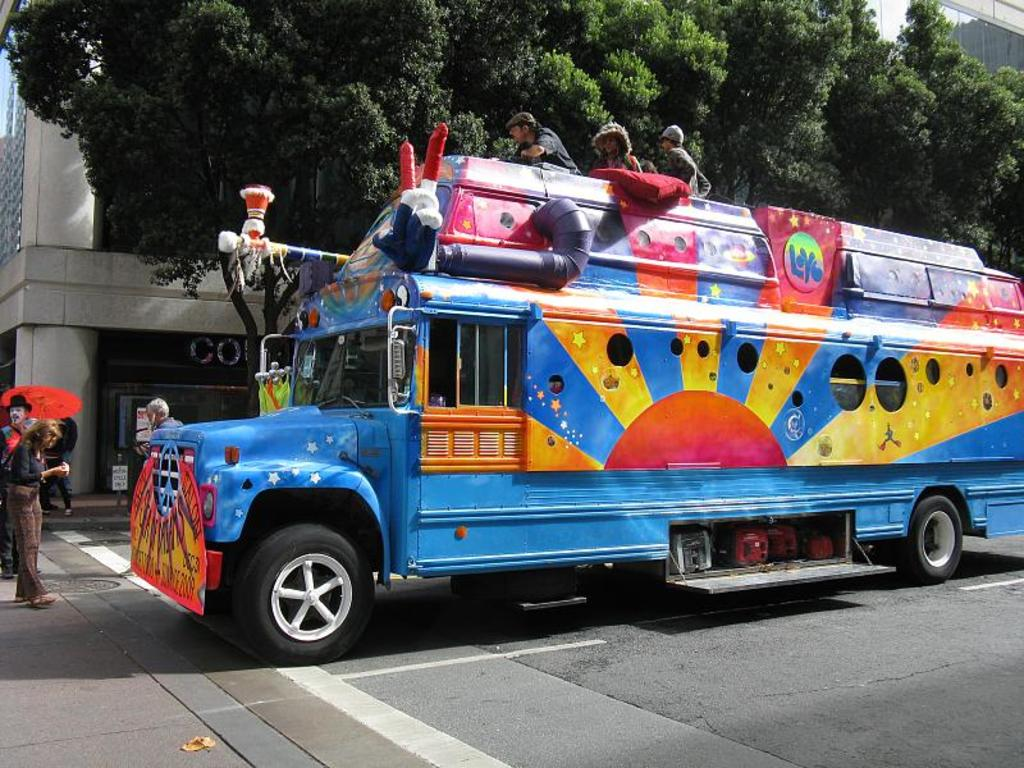person: (130, 395, 185, 477)
